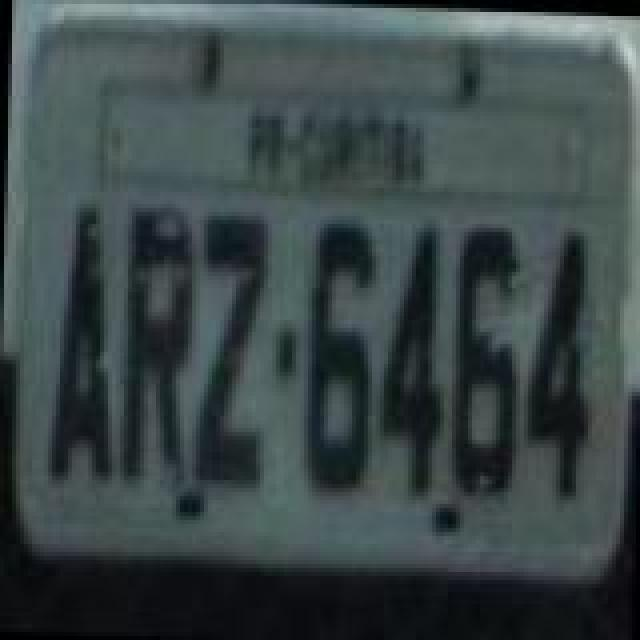4: (520, 224, 596, 504), (378, 222, 450, 502)
6: (300, 214, 376, 494), (450, 216, 522, 504)
A: (46, 204, 122, 484)
R: (114, 202, 194, 490)
Z: (190, 210, 270, 490)
